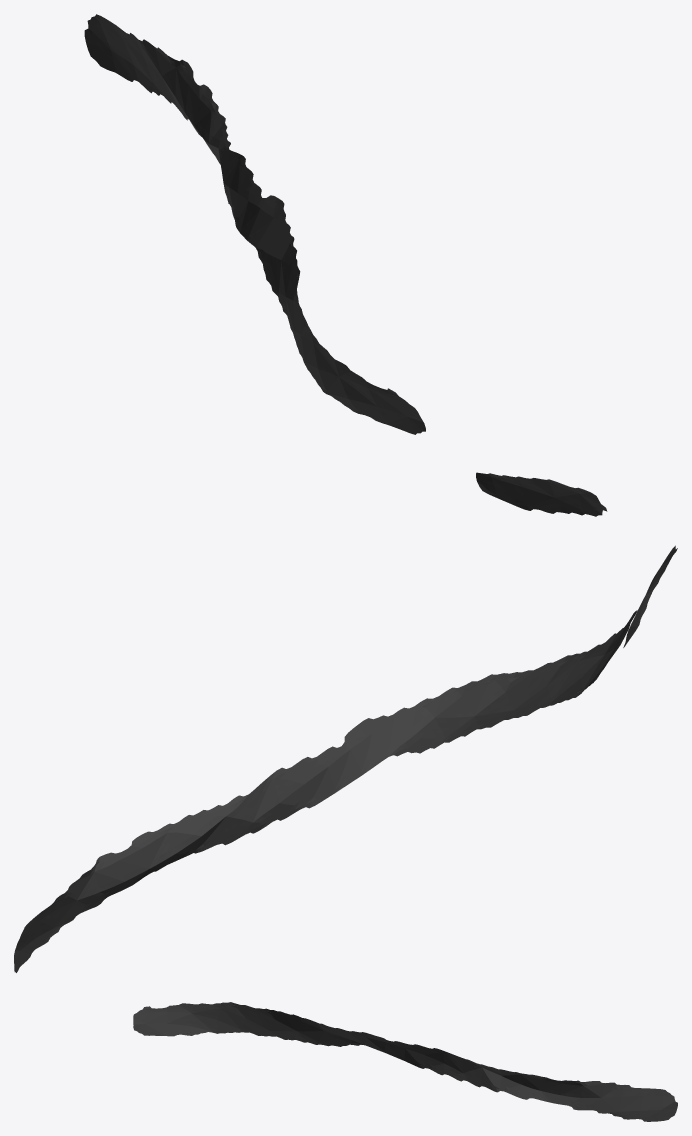
The model's file is a_palmar_digital_medial.glb.
3 views of the same model, one above another, from view 1: azimuth 30°, elevation 25°; view 2: azimuth 150°, elevation 25°; view 3: azimuth 270°, elevation 25° (orthographic). The views are drawn at different scales.
Parts seen in each view (by area): view 1: a_palmar_digital_medial; view 2: a_palmar_digital_medial; view 3: a_palmar_digital_medial.
Part boxes in pixels (left/top/right/bottom): a_palmar_digital_medial: left=84, top=14, right=607, bottom=516; a_palmar_digital_medial: left=14, top=545, right=677, bottom=972; a_palmar_digital_medial: left=133, top=1002, right=677, bottom=1121.
Size of the model in its own units: 0.0294 by 0.0142 by 0.1359.
1 material, 1 textured.
